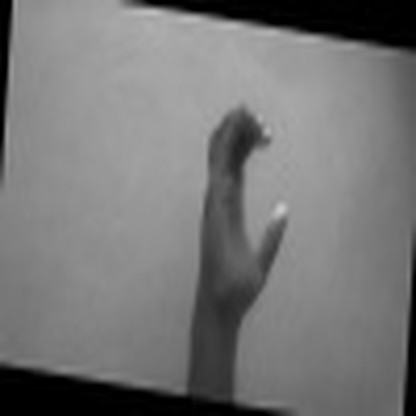c: (191, 93, 298, 307)
